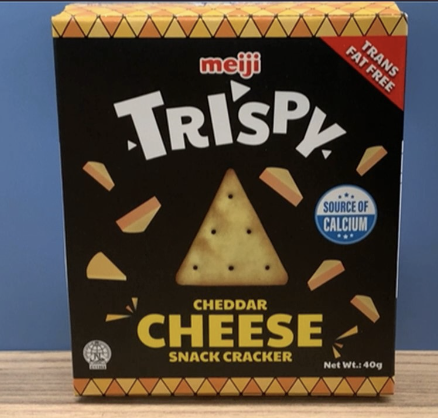crackers_1g-99g: (80, 39, 398, 376)
